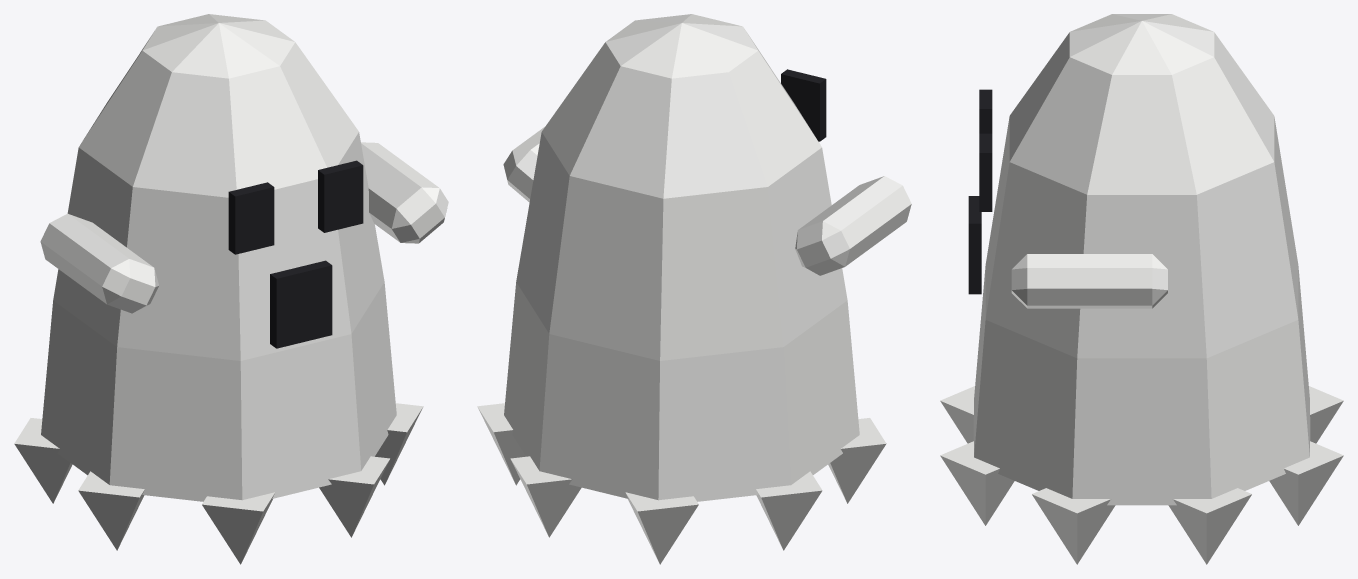
The model's file is GhostDecor.fbx.
3 views of the same model, side by side, from view 1: azimuth 30°, elevation 25°; view 2: azimuth 150°, elevation 25°; view 3: azimuth 270°, elevation 25° (orthographic).
Parts seen in each view (by area): view 1: GhostDecor; view 2: GhostDecor; view 3: GhostDecor.
Boxes of the visible parts, x1,y1,x2,y2 form: GhostDecor: (14,14,448,564); GhostDecor: (477,14,911,564); GhostDecor: (940,14,1343,564).
Bounding box in the file's own units: 3.11 × 4.05 × 3.1.
1 material, 1 textured.
